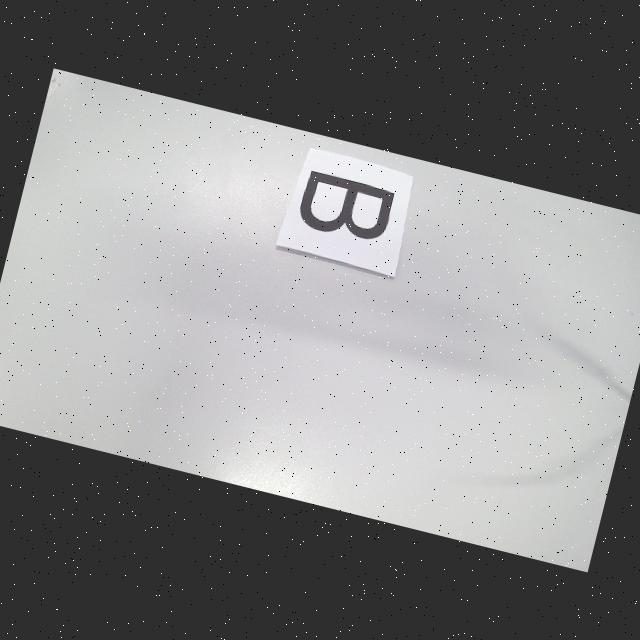FAKE: (294, 169, 396, 246)
